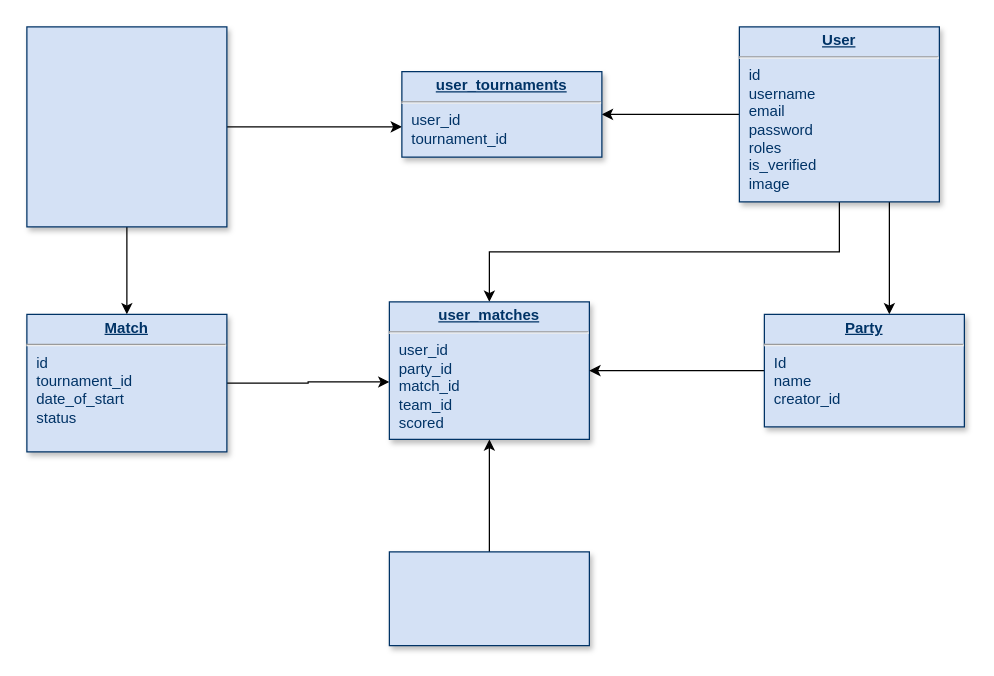
The diagram is 994 pixels wide and 676 high, and some of its shapes have lost their labels. Each missing label, with the centre of its shape:
team id name: (490,600)
Tournament id name type prize date_of_start slug owner_id status: (127,128)
